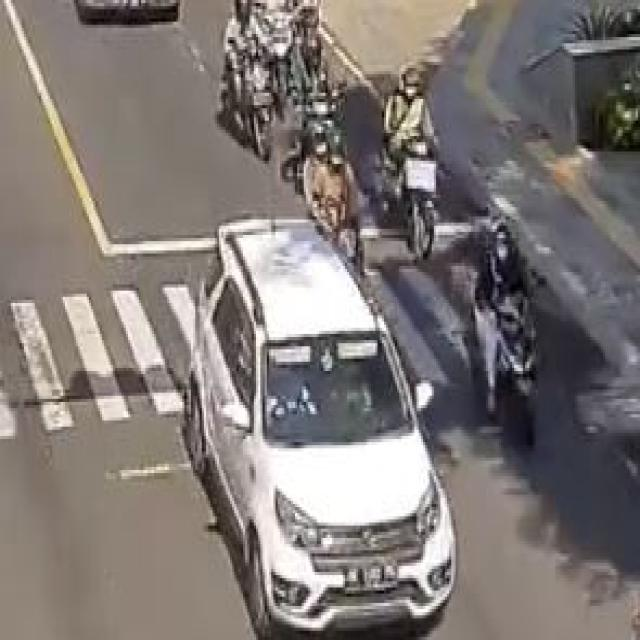car: (193, 234, 454, 635)
motorbike: (472, 210, 549, 447), (377, 60, 458, 269), (202, 0, 278, 174)
